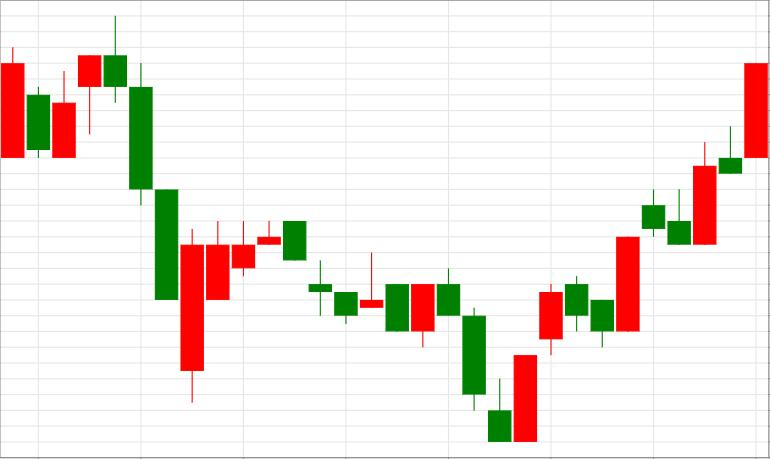bullish_engulfing_rise: (284, 221, 536, 442)
